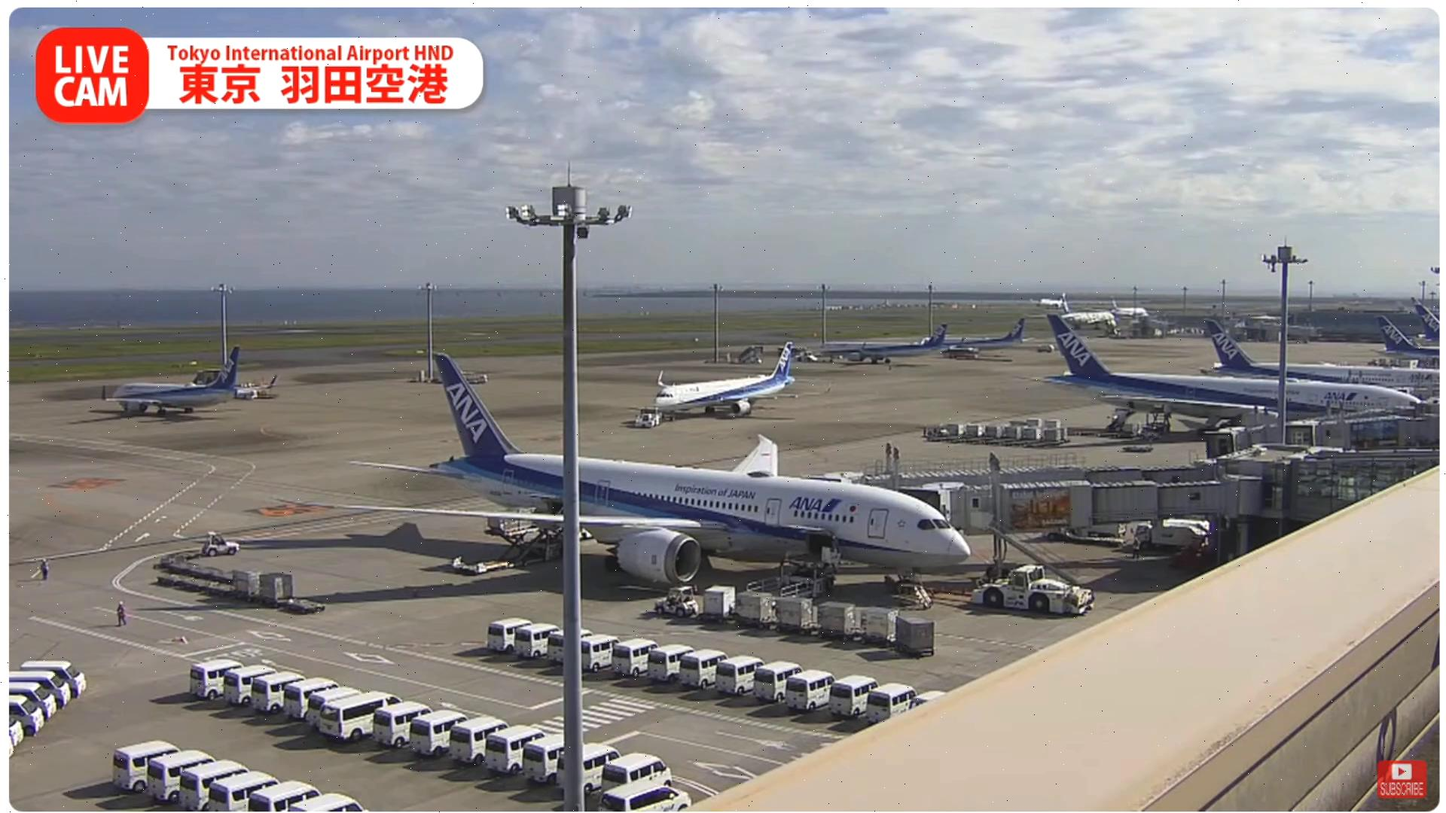APS: (969, 564, 1106, 619)
Aerobridge: (899, 476, 1264, 540), (843, 457, 1217, 496)
Airplane: (330, 354, 973, 599)
Dolly: (710, 584, 939, 661), (156, 566, 329, 618), (153, 548, 233, 582)
JCPL: (699, 546, 848, 617), (450, 523, 565, 571)
Tractor: (665, 586, 709, 621), (201, 528, 241, 556)
Window: (1290, 456, 1440, 523)
